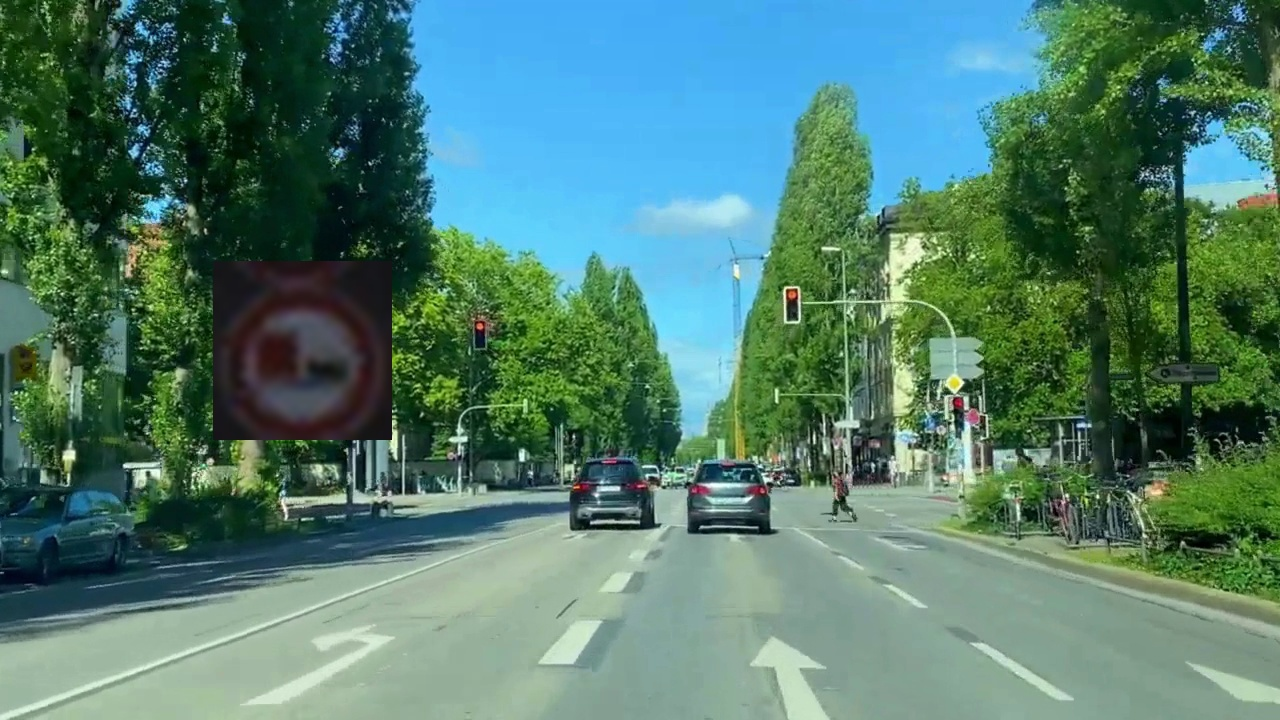No pass >3.5t: (213, 261, 392, 440)
